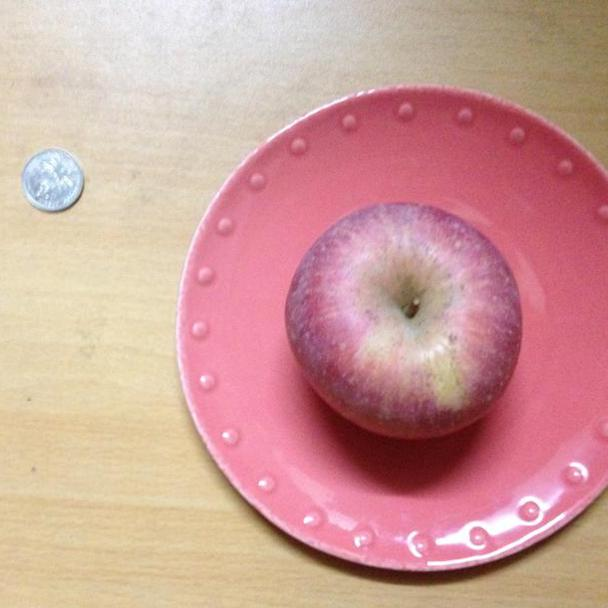apple: (284, 197, 529, 444)
